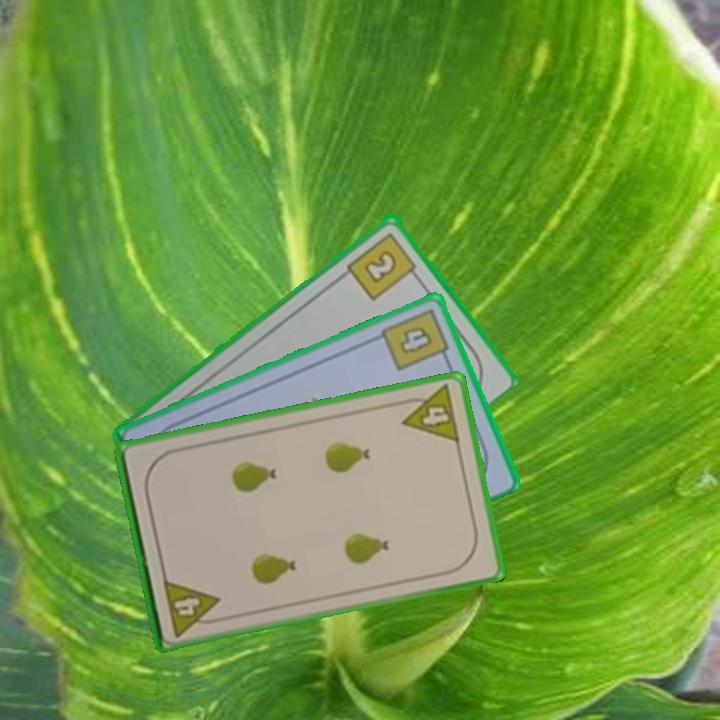2b: (343, 228, 422, 303)
4b: (377, 304, 453, 374)
4p: (395, 381, 463, 446), (159, 575, 225, 640)
